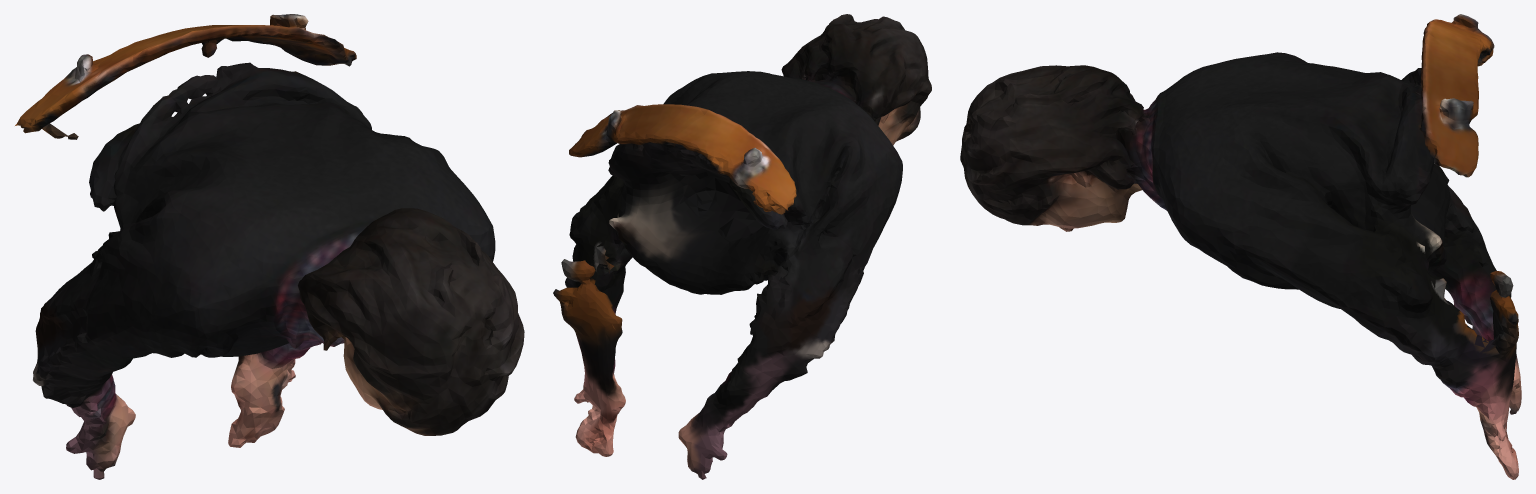
The model's file is KawakamiSkanect.obj.
The picture shows the model from 3 angles, left to right: view 1: azimuth 30°, elevation 25°; view 2: azimuth 150°, elevation 25°; view 3: azimuth 270°, elevation 25°; orthographic projection. The views are drawn at different scales.
Size of the model in its own units: 0.4705 by 0.5745 by 0.7305.
1 material, 1 textured.
